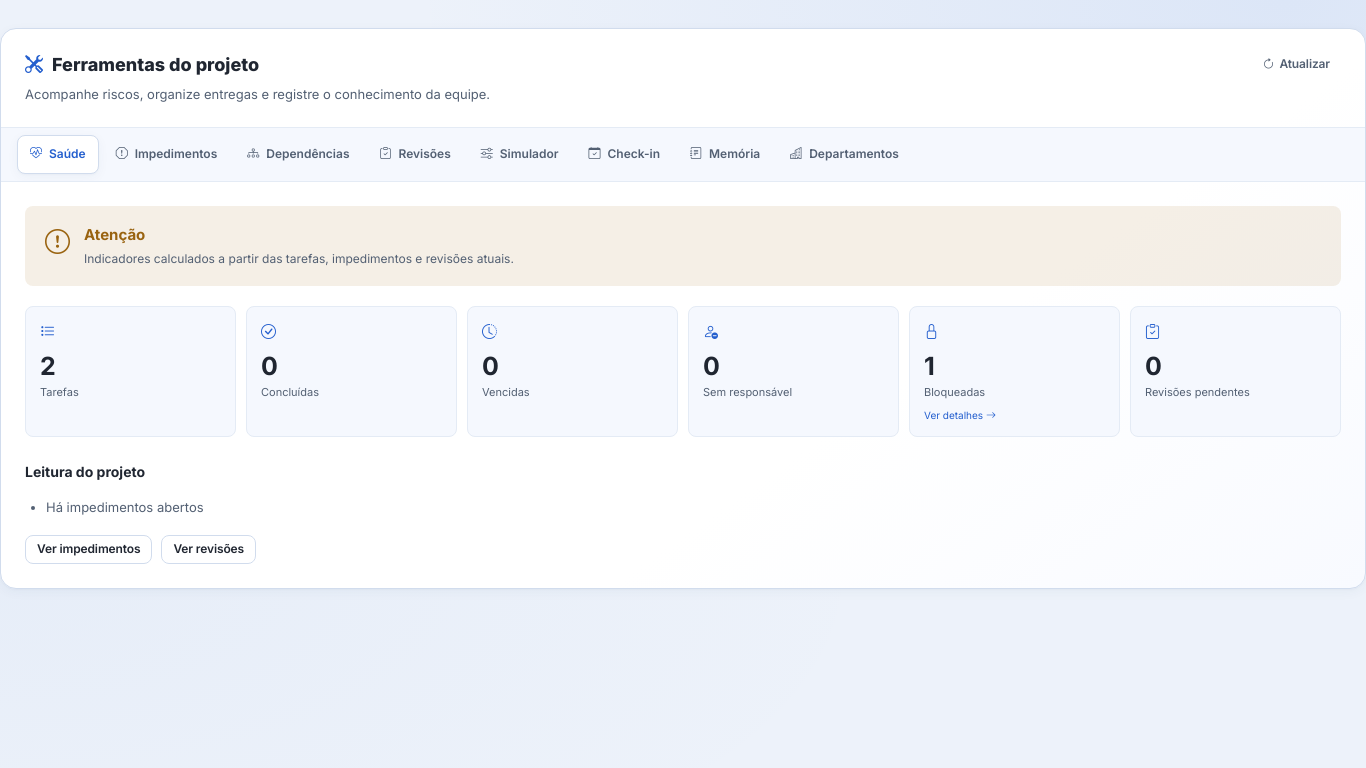
Test: detalhes de bloqueio levam ao contexto existente de dependências
The width and height of the screenshot is (1366, 768).
Click the button "Ver detalhes" at (960, 415), box [924,408,996,422]
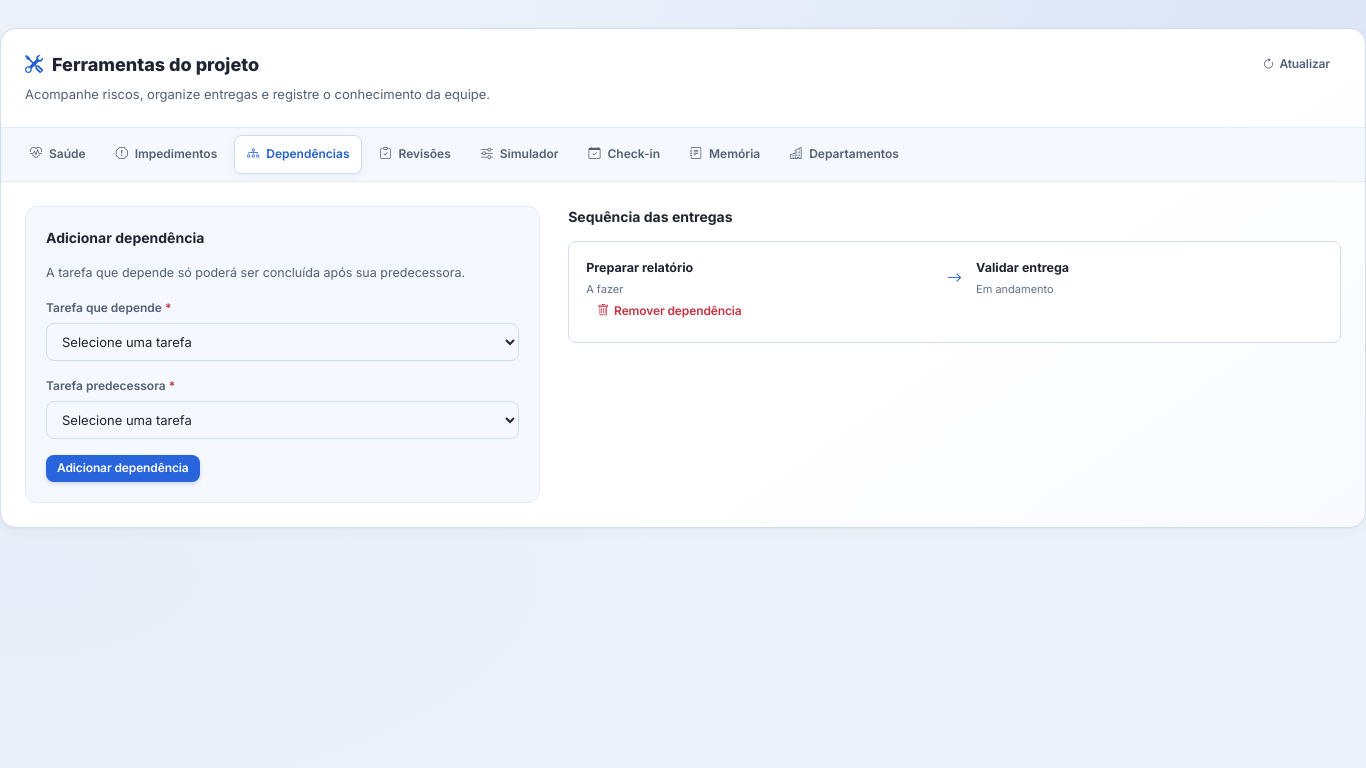
Expected: the tab "Dependências" is shown, [234,135,362,174]
Expected: the text "Preparar relatório" is shown, [586,260,693,275]
